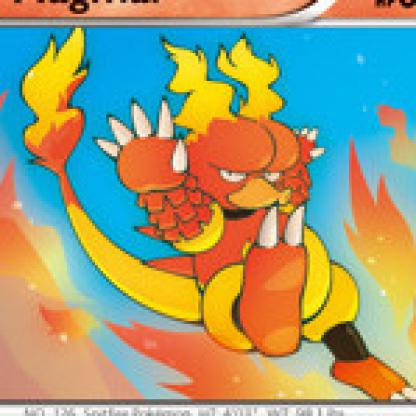Magmar: (6, 1, 416, 416)
